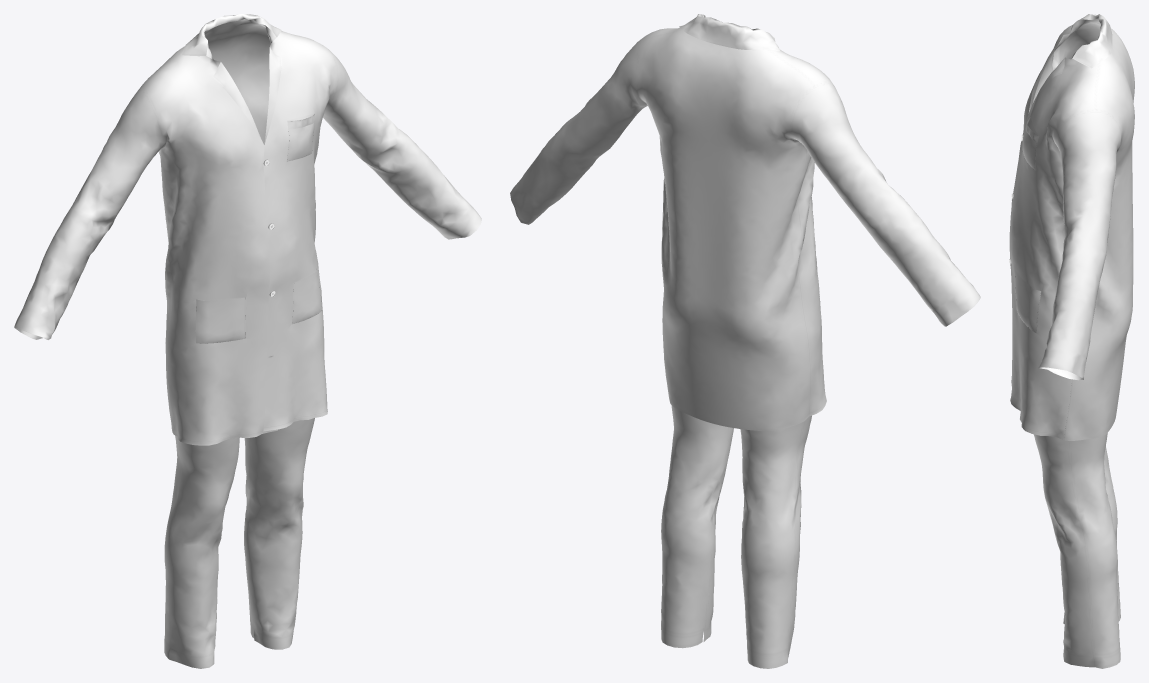
File: male_lab_coat_and_pants.glb
3 views of the same model, side by side, from view 1: azimuth 30°, elevation 25°; view 2: azimuth 150°, elevation 25°; view 3: azimuth 270°, elevation 25° (orthographic). The views are drawn at different scales.
Parts seen in each view (by area): view 1: Object_3; view 2: Object_3; view 3: Object_3.
Part boxes in pixels (x1,y1,x2,y2): Object_3: [14, 14, 481, 668]; Object_3: [510, 14, 980, 668]; Object_3: [1009, 14, 1134, 668].
Size of the model in its own units: 1174 by 1527 by 282.
Materials: 4 (4 with a texture image).
